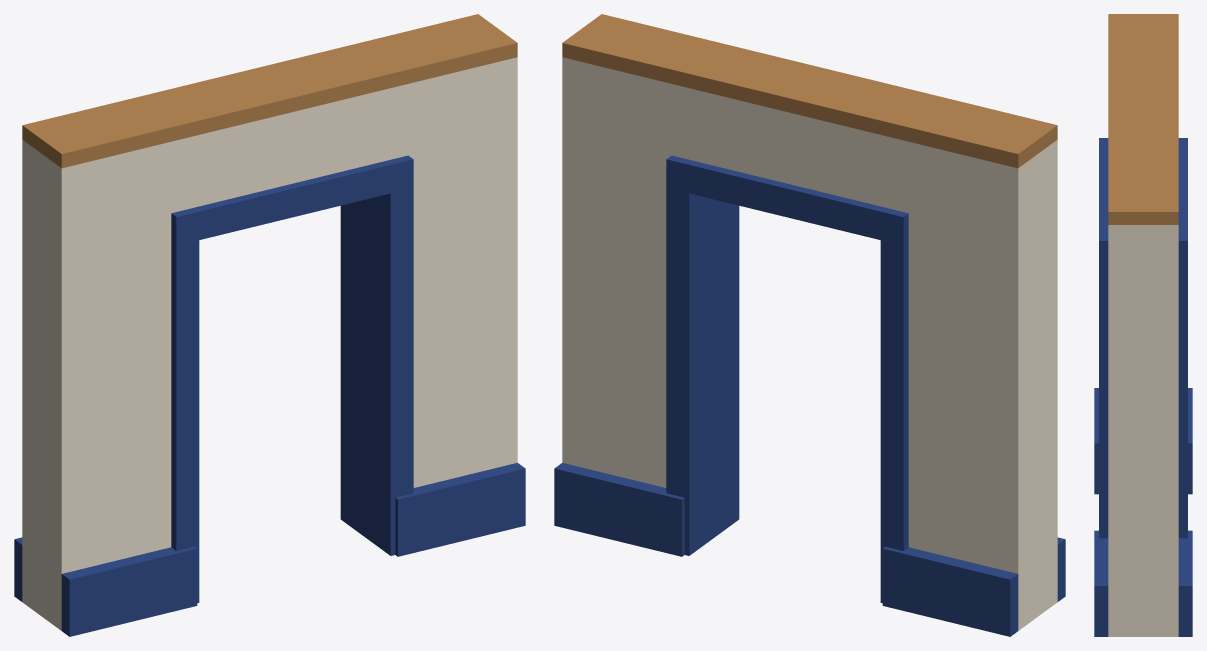
File: wall-door.glb
3 renders of one model, left to right at view 1: azimuth 30°, elevation 25°; view 2: azimuth 150°, elevation 25°; view 3: azimuth 270°, elevation 25°, orthographic. The views are drawn at different scales.
Parts seen in each view (by area): view 1: wall-door; view 2: wall-door; view 3: wall-door.
Boxes of the visible parts, <box> form: wall-door: <box>14,14,525,636</box>; wall-door: <box>554,14,1065,636</box>; wall-door: <box>1094,14,1192,636</box>.
Bounding box in the file's own units: 1 × 1 × 0.21.
Materials: 1 (1 with a texture image).
